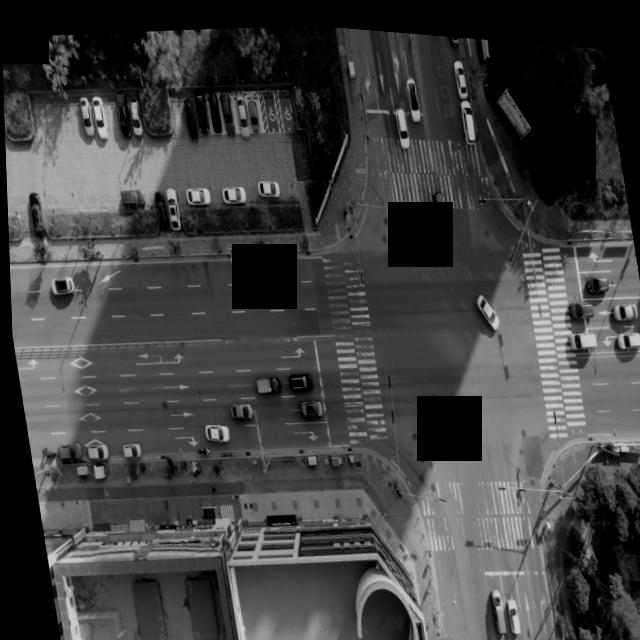car: (486, 578, 503, 624)
small_truck: (253, 368, 280, 389)
